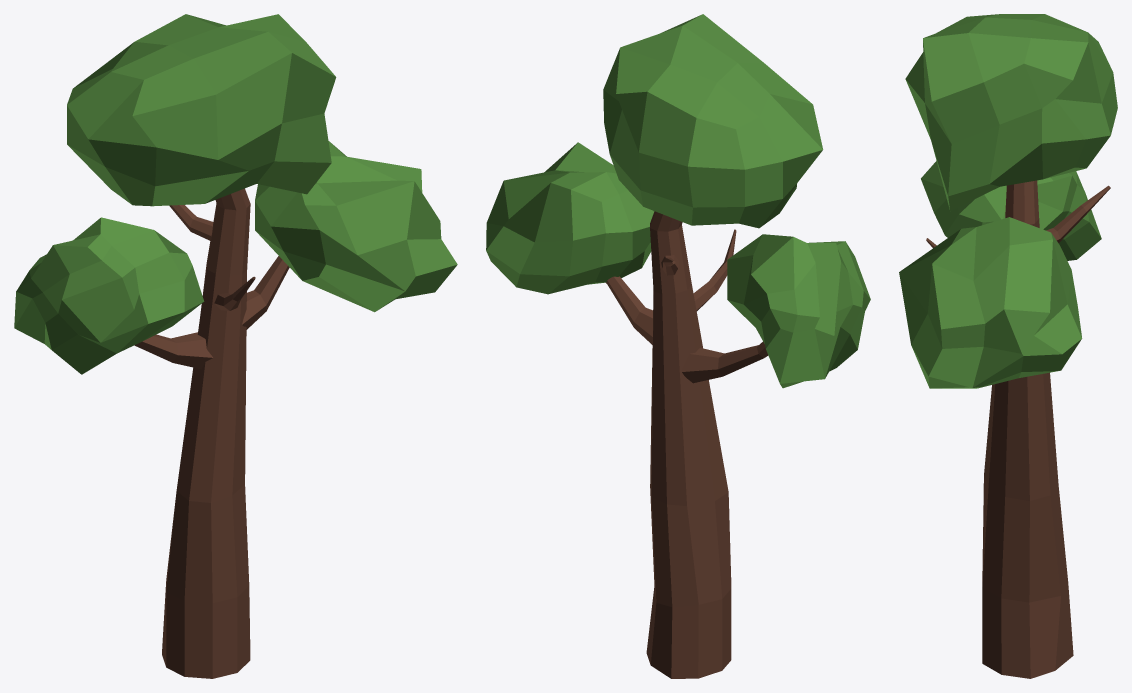
The model's file is TreeGreen1.fbx.
The picture shows the model from 3 angles, left to right: view 1: azimuth 30°, elevation 25°; view 2: azimuth 150°, elevation 25°; view 3: azimuth 270°, elevation 25°; orthographic projection. The views are drawn at different scales.
Visible parts, largest first — view 1: tree.008; view 2: tree.008; view 3: tree.008.
Part boxes in pixels (x1,y1,x2,y2): tree.008: (14, 14, 457, 678); tree.008: (486, 14, 870, 678); tree.008: (899, 14, 1117, 678).
Size of the model in its own units: 480 by 762 by 235.
